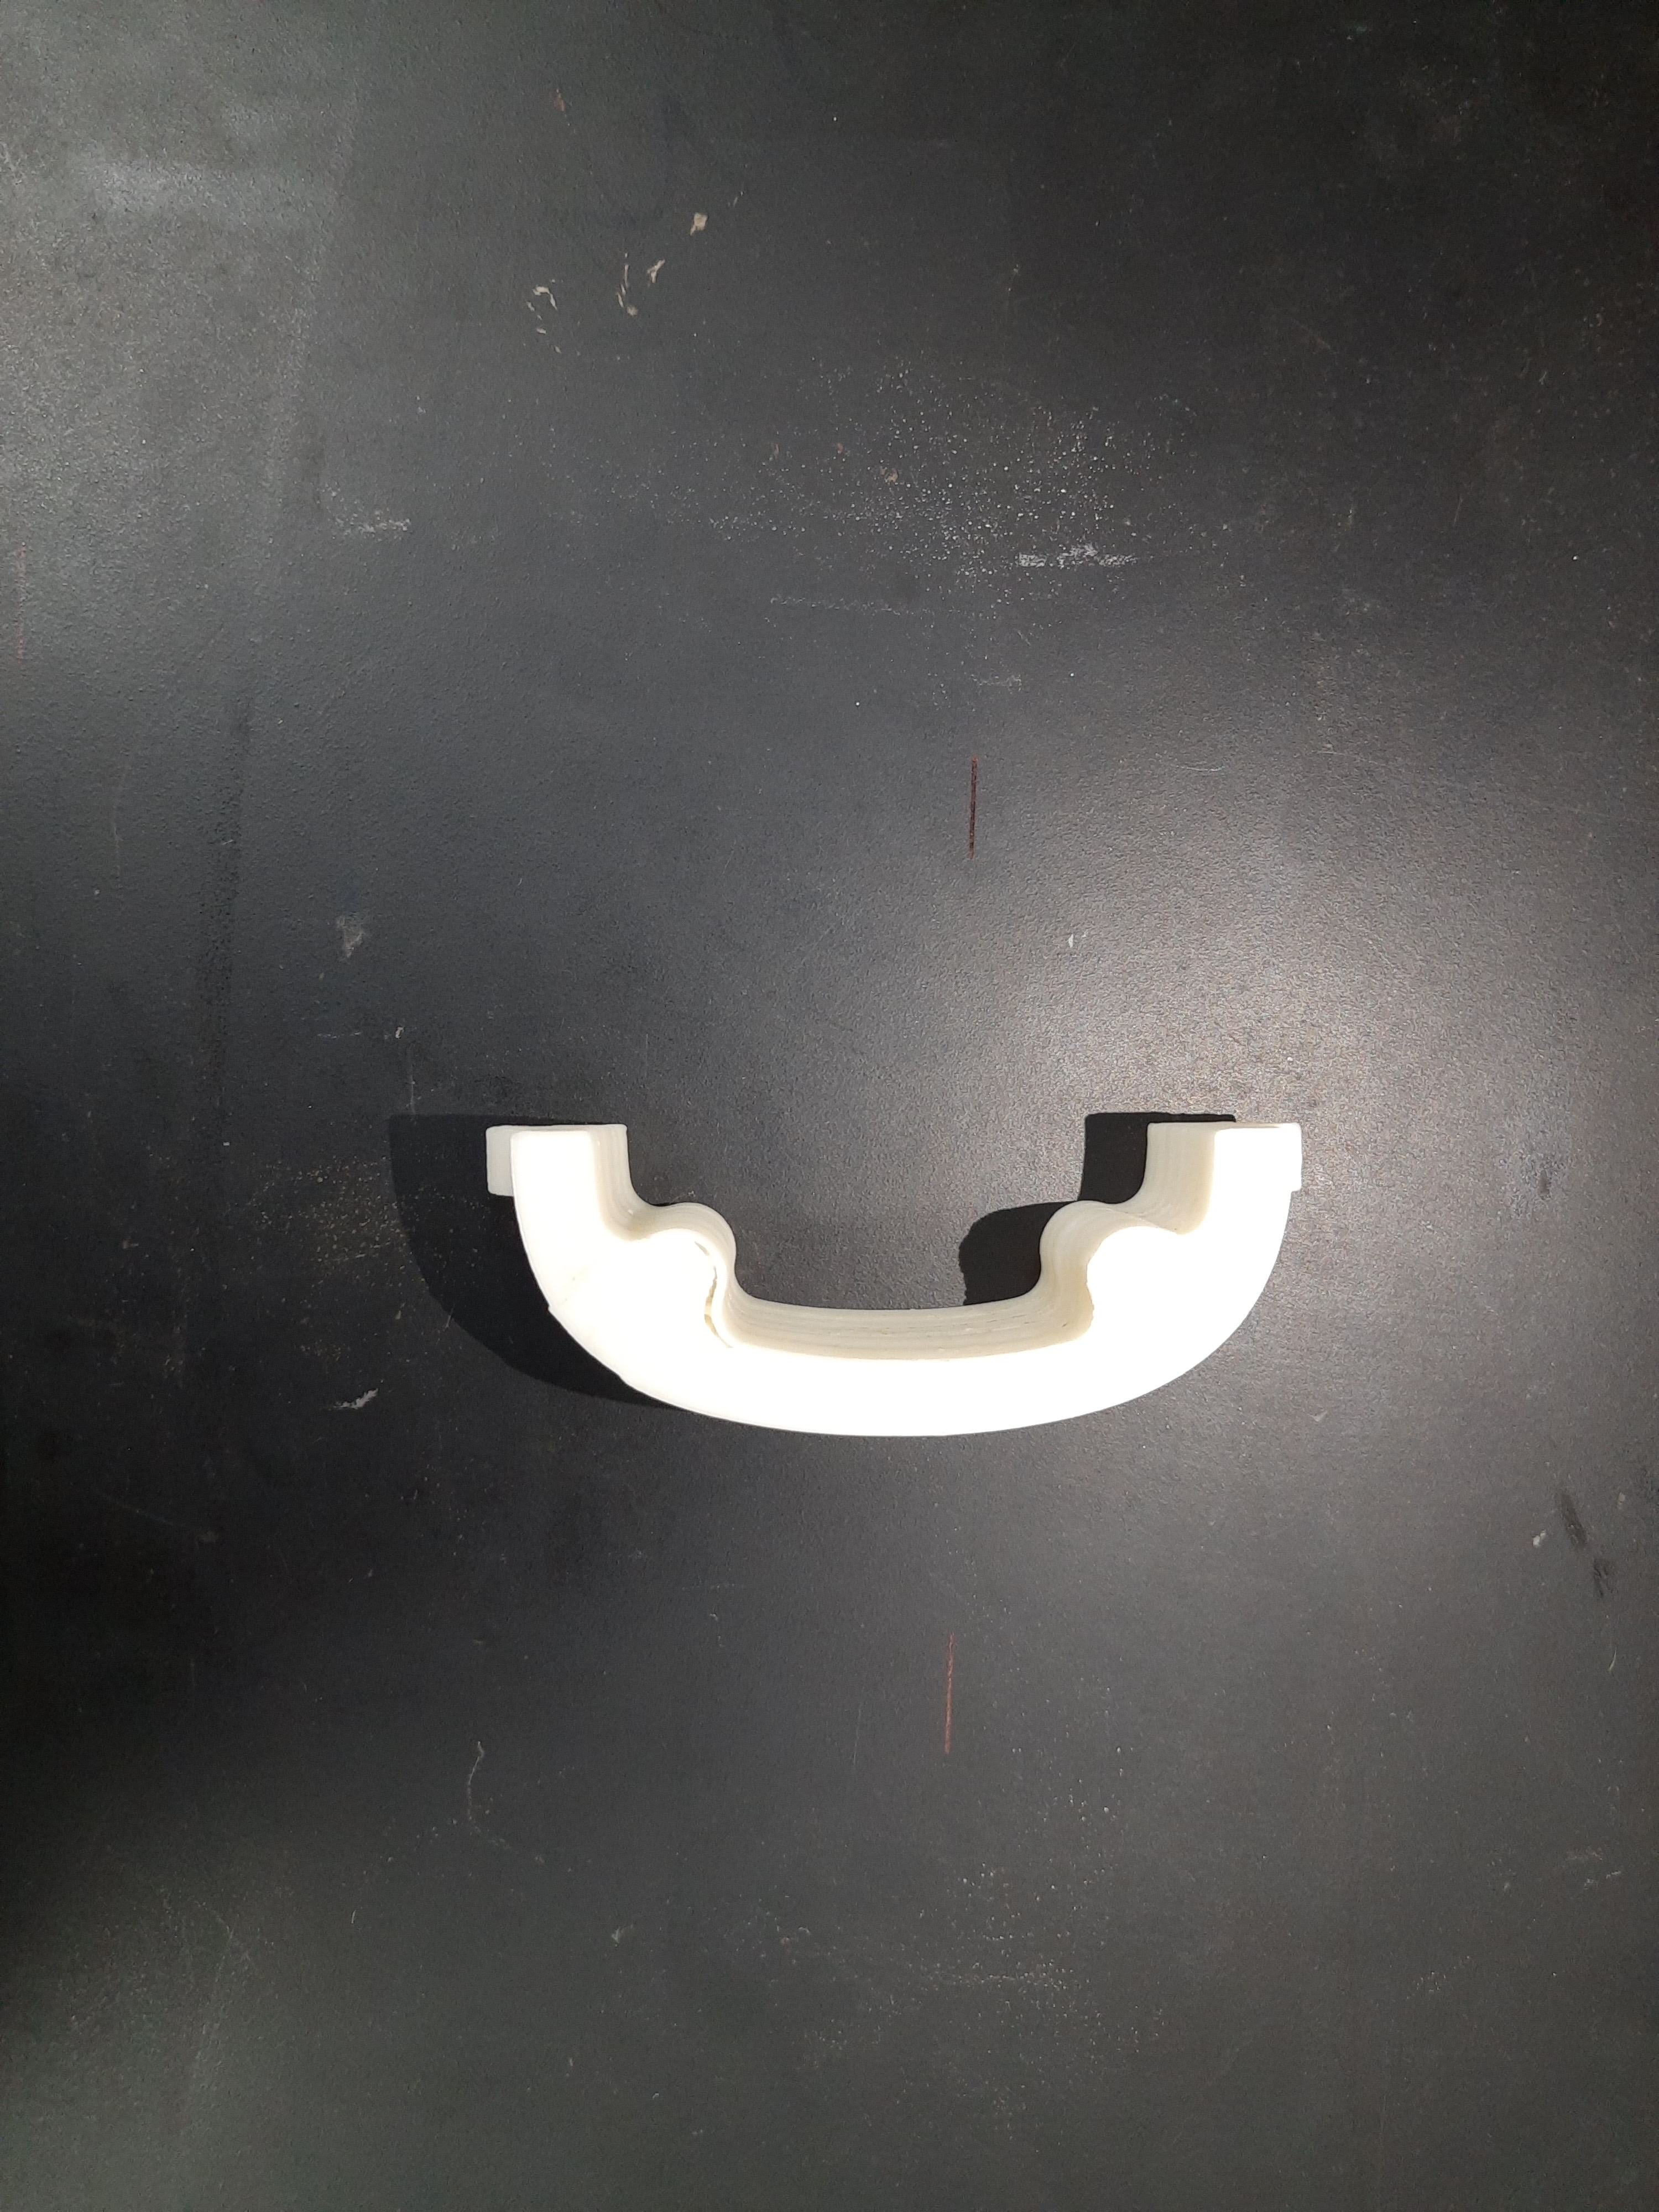ARC: (486, 1118, 1303, 1435)
